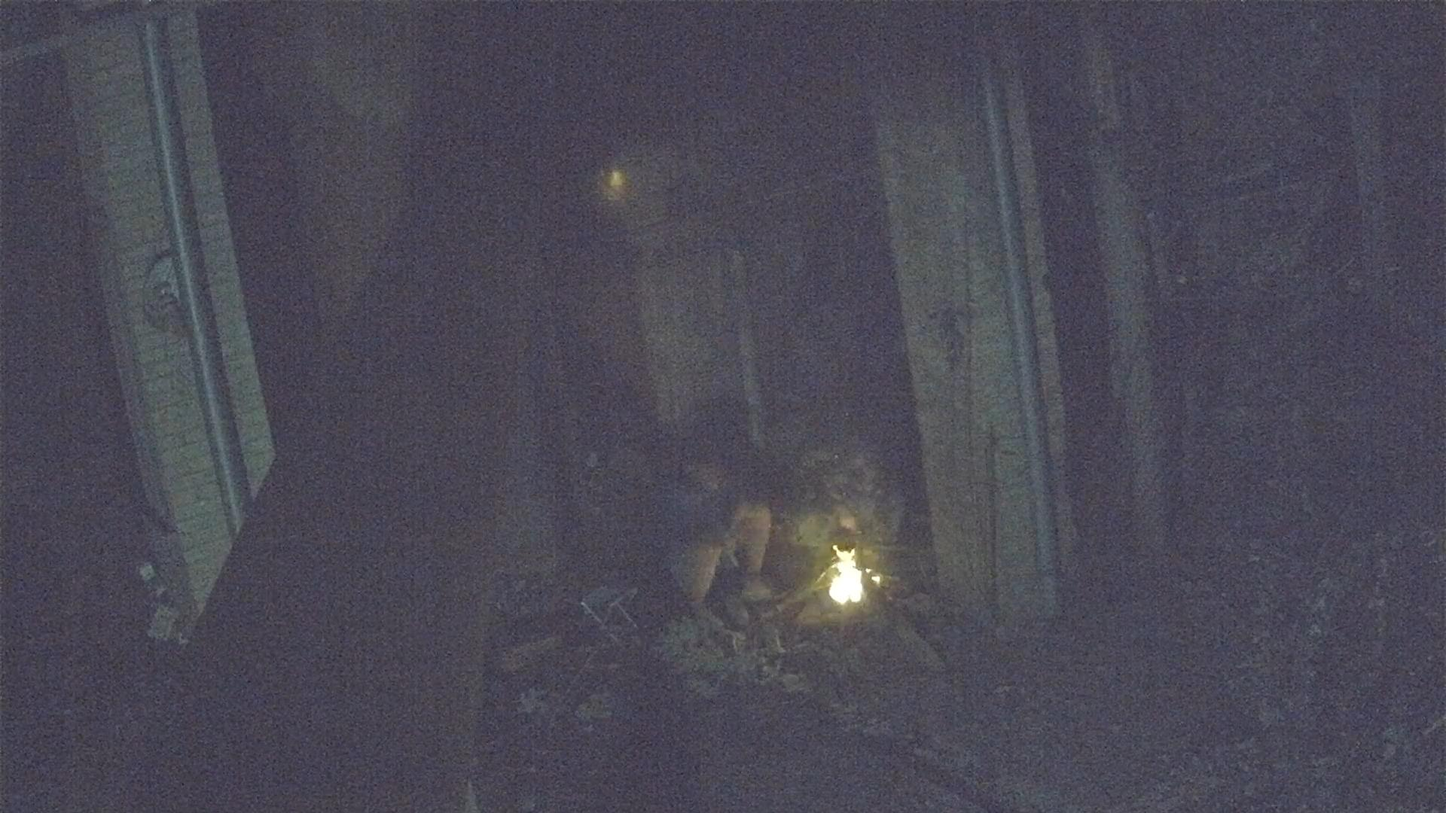fire: (828, 547, 865, 605)
